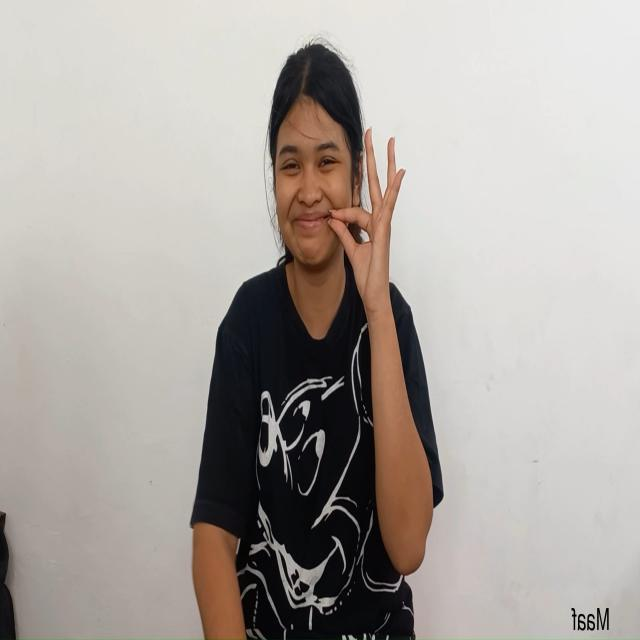Maaf -BISINDO-: (259, 40, 415, 365)
